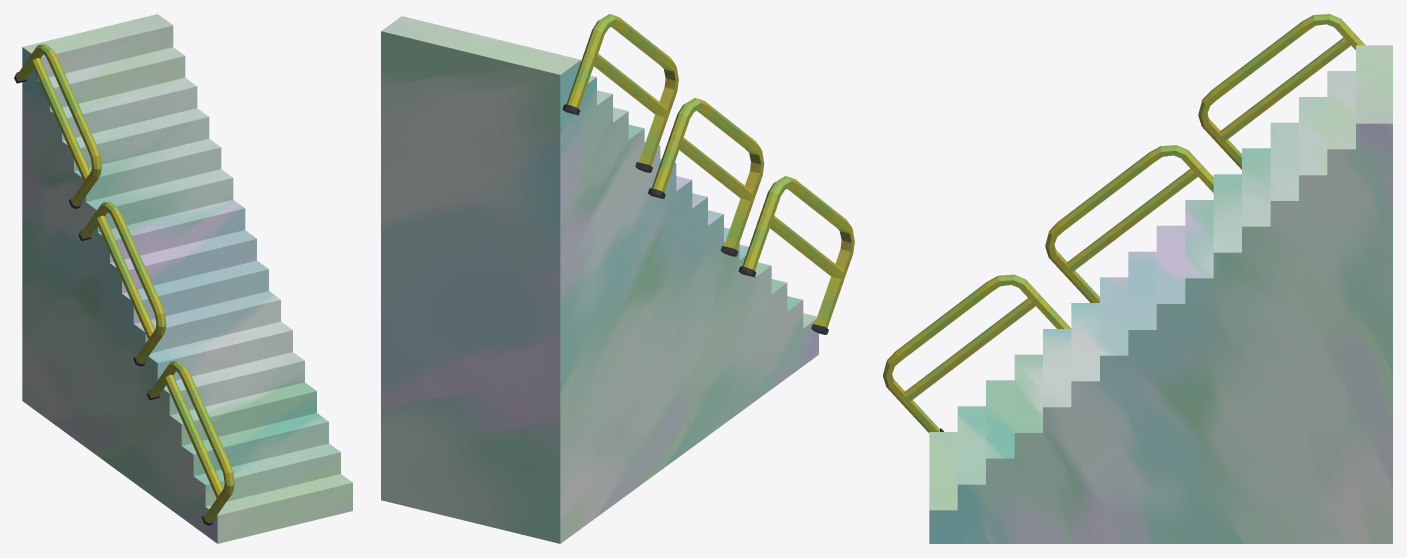
File: Stairs_Five_Rail2.glb
3 views of the same model, side by side, from view 1: azimuth 30°, elevation 25°; view 2: azimuth 150°, elevation 25°; view 3: azimuth 270°, elevation 25° (orthographic). The views are drawn at different scales.
Parts seen in each view (by area): view 1: Stairs_Five_Rail.001; view 2: Stairs_Five_Rail.001; view 3: Stairs_Five_Rail.001.
Boxes of the visible parts, x1=… form: Stairs_Five_Rail.001: x1=14, y1=14, x2=352, y2=543; Stairs_Five_Rail.001: x1=381, y1=14, x2=854, y2=543; Stairs_Five_Rail.001: x1=883, y1=14, x2=1392, y2=543.
Bounding box in the file's own units: 2.15 × 5.33 × 5.5.
Materials: 2 (2 with a texture image).
